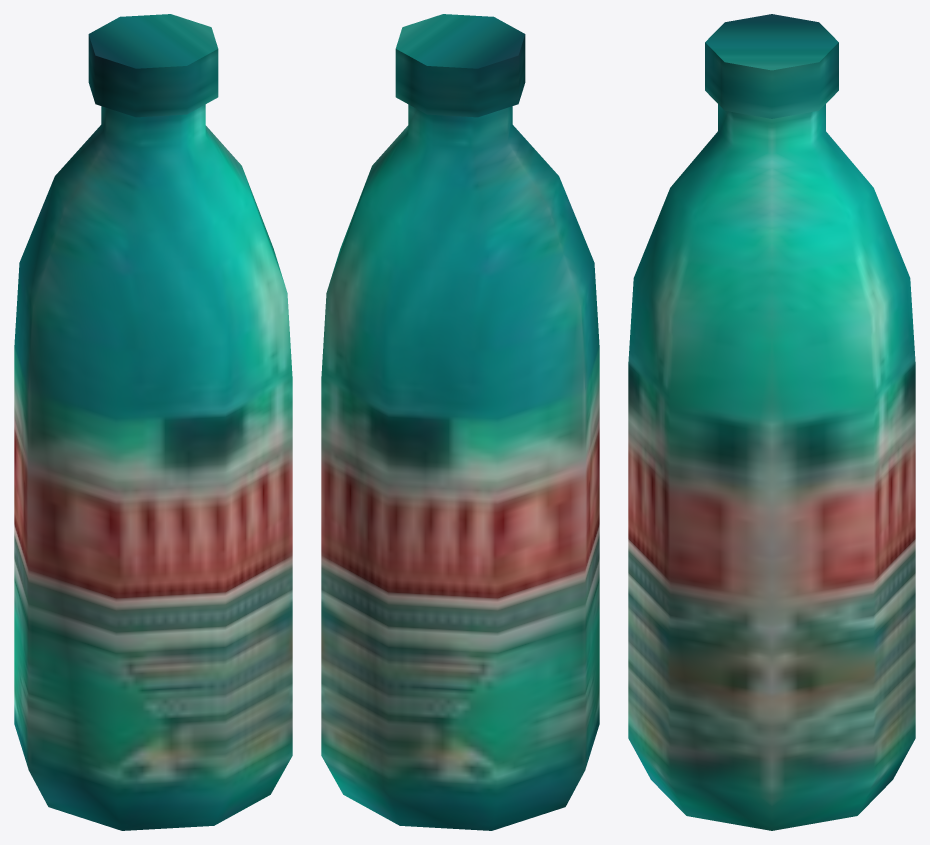
File: Chemical_06.glb
3 renders of one model, left to right at view 1: azimuth 30°, elevation 25°; view 2: azimuth 150°, elevation 25°; view 3: azimuth 270°, elevation 25°, orthographic.
Visible parts, largest first — view 1: Chemical_06; view 2: Chemical_06; view 3: Chemical_06.
Boxes of the visible parts, x1=… form: Chemical_06: x1=14, y1=14, x2=292, y2=830; Chemical_06: x1=321, y1=14, x2=599, y2=830; Chemical_06: x1=628, y1=14, x2=915, y2=830.
Bounding box in the file's own units: 0.0734 × 0.208 × 0.0734.
1 material, 1 textured.
